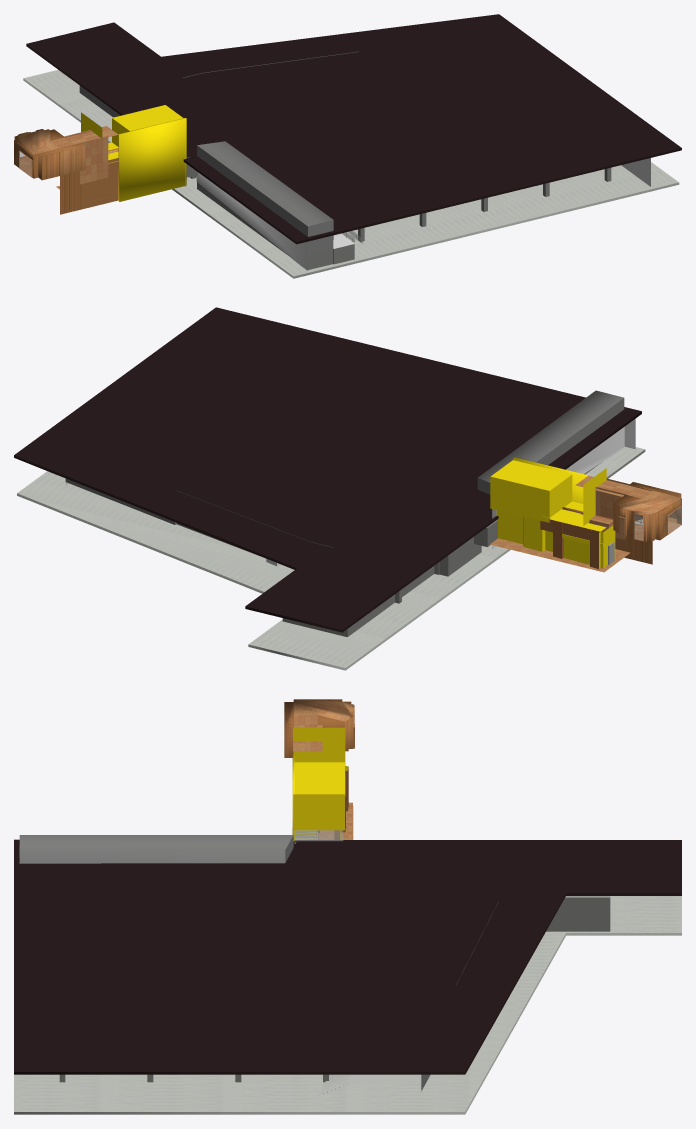
Rendered from MMTTMT.glb.
3 views of the same model, one above another, from view 1: azimuth 30°, elevation 25°; view 2: azimuth 150°, elevation 25°; view 3: azimuth 270°, elevation 25° (orthographic). The views are drawn at different scales.
Parts seen in each view (by area): view 1: ISTAIS IZMERS SIENAM.002, ISTAIS IZMERS SIENAM, Cube.005, ieeja, Plane.002, Cube.060, Plane.001, Plane.009, Plane.005, Cube.008, stabi.035, Plane.004; view 2: ISTAIS IZMERS SIENAM.002, ISTAIS IZMERS SIENAM, GERBTUVE, Cube.005, Plane.001, ieeja, Plane.004, mazā_zāle, Cube.060, Plane.010, Cube.013, Plane.005 (+2 smaller); view 3: ISTAIS IZMERS SIENAM.002, ISTAIS IZMERS SIENAM, Cube.005, Plane.001, ieeja, mazā_zāle, Plane.004, mazās_trepes, Plane.005.
Part boxes in pixels (x1=…): ISTAIS IZMERS SIENAM.002: x1=26, y1=14, x2=681, y2=244; ISTAIS IZMERS SIENAM: x1=23, y1=70, x2=679, y2=278; Cube.005: x1=197, y1=141, x2=333, y2=269; ieeja: x1=14, y1=129, x2=118, y2=214; Plane.002: x1=118, y1=118, x2=186, y2=201; Cube.060: x1=196, y1=158, x2=650, y2=270; Plane.001: x1=112, y1=105, x2=183, y2=146; Plane.009: x1=80, y1=136, x2=108, y2=184; Plane.005: x1=51, y1=126, x2=118, y2=147; Cube.008: x1=333, y1=234, x2=354, y2=264; stabi.035: x1=118, y1=114, x2=611, y2=241; Plane.004: x1=81, y1=112, x2=118, y2=163; ISTAIS IZMERS SIENAM.002: x1=14, y1=307, x2=641, y2=632; ISTAIS IZMERS SIENAM: x1=17, y1=446, x2=645, y2=670; GERBTUVE: x1=496, y1=507, x2=615, y2=568; Cube.005: x1=477, y1=390, x2=624, y2=494; Plane.001: x1=490, y1=460, x2=572, y2=522; ieeja: x1=613, y1=482, x2=681, y2=564; Plane.004: x1=546, y1=468, x2=606, y2=526; mazā_zāle: x1=282, y1=566, x2=434, y2=637; Cube.060: x1=65, y1=427, x2=624, y2=485; Plane.010: x1=490, y1=538, x2=630, y2=572; Cube.013: x1=439, y1=537, x2=481, y2=576; Plane.005: x1=575, y1=475, x2=651, y2=498; ISTAIS IZMERS SIENAM.002: x1=14, y1=839, x2=681, y2=1074; ISTAIS IZMERS SIENAM: x1=14, y1=896, x2=681, y2=1114; Cube.005: x1=19, y1=835, x2=293, y2=863; Plane.001: x1=293, y1=762, x2=344, y2=830; ieeja: x1=284, y1=699, x2=354, y2=757; mazā_zāle: x1=546, y1=896, x2=610, y2=931; Plane.004: x1=293, y1=727, x2=345, y2=796; mazās_trepes: x1=319, y1=1074, x2=421, y2=1095; Plane.005: x1=293, y1=715, x2=322, y2=751.
Size of the model in its own units: 65.18 by 10.16 by 57.03.
Materials: 77 (3 with a texture image).
